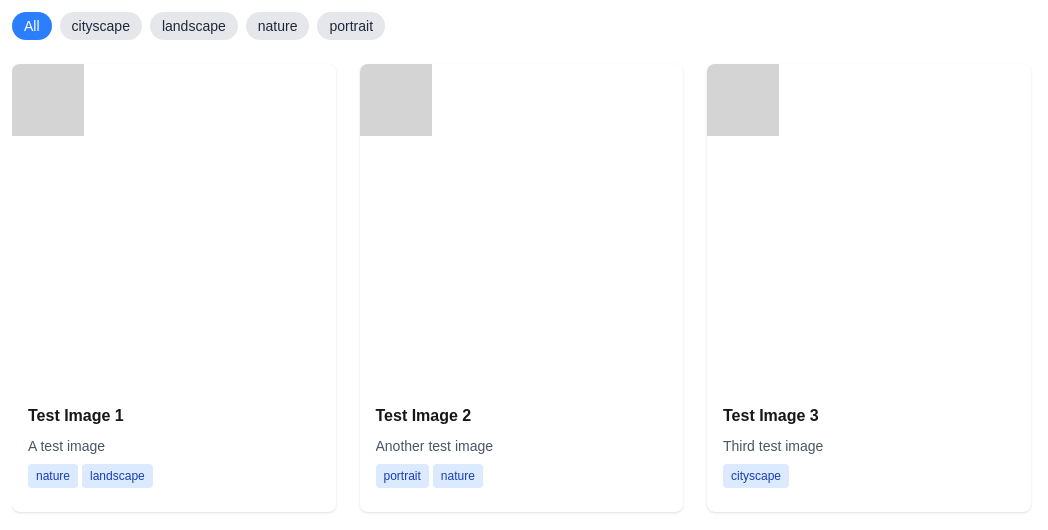
ImageGrid › Tag Filtering › filters images by selected tag
Check: the heading "Test Image 1" is shown, box left=28, top=406, right=124, bottom=424
Check: the heading "Test Image 2" is shown, box left=376, top=406, right=471, bottom=424
# Click on 'nature' tag using data-testid
Click the button with test id "image-grid-tag-filter-nature": {"x": 278, "y": 26} left=246, top=12, right=310, bottom=40
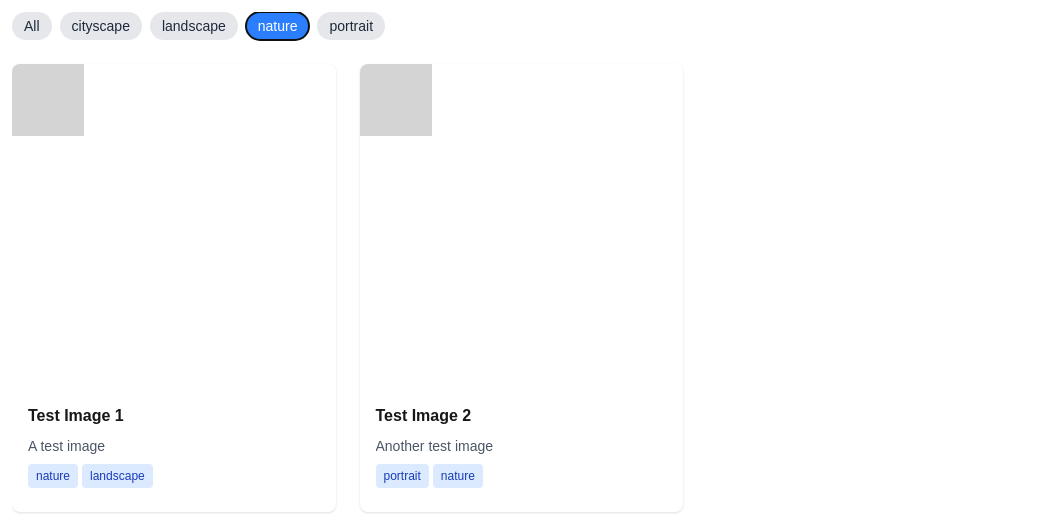
Check: the heading "Test Image 1" is shown, box left=28, top=406, right=124, bottom=424
Check: the heading "Test Image 3" is gone
